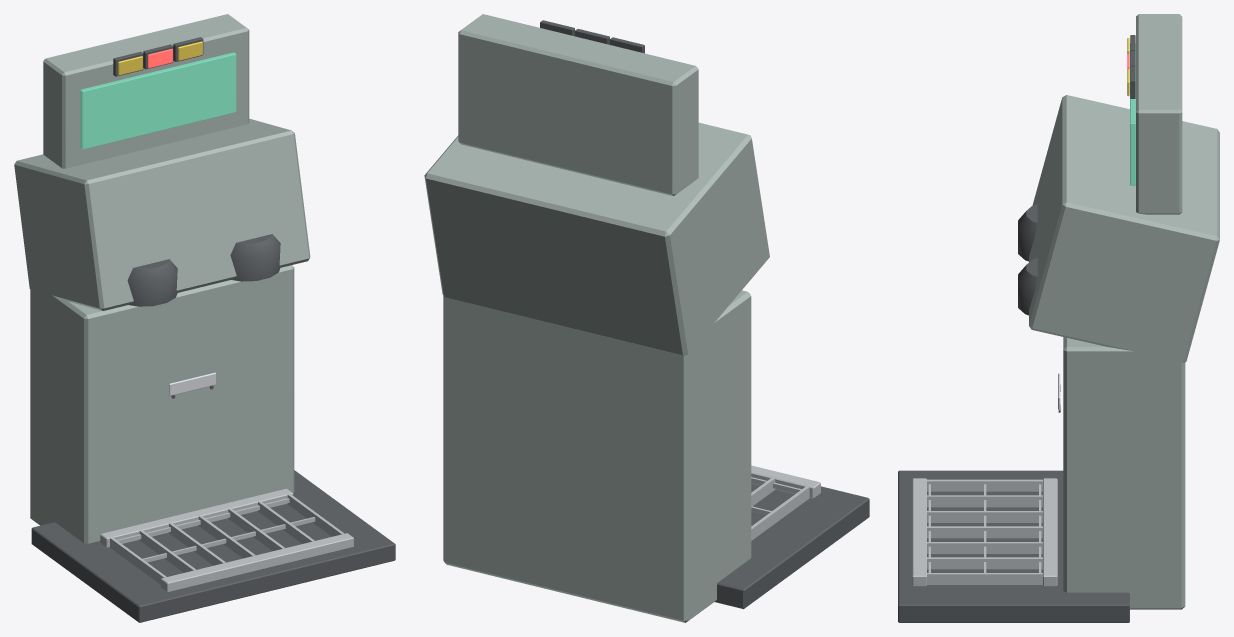
File: nuclear-power-station-and-control-room-hand-and-foot-m-87ede431__36924.glb
3 views of the same model, side by side, from view 1: azimuth 30°, elevation 25°; view 2: azimuth 150°, elevation 25°; view 3: azimuth 270°, elevation 25° (orthographic). The views are drawn at different scales.
Visible parts, largest first — view 1: hand-and-foot-monitor; view 2: hand-and-foot-monitor; view 3: hand-and-foot-monitor.
Part boxes in pixels (left/top/right/bottom): hand-and-foot-monitor: left=14, top=14, right=395, bottom=622; hand-and-foot-monitor: left=424, top=14, right=869, bottom=622; hand-and-foot-monitor: left=898, top=14, right=1219, bottom=622.
Size of the model in its own units: 1.1 by 1.89 by 1.11.
